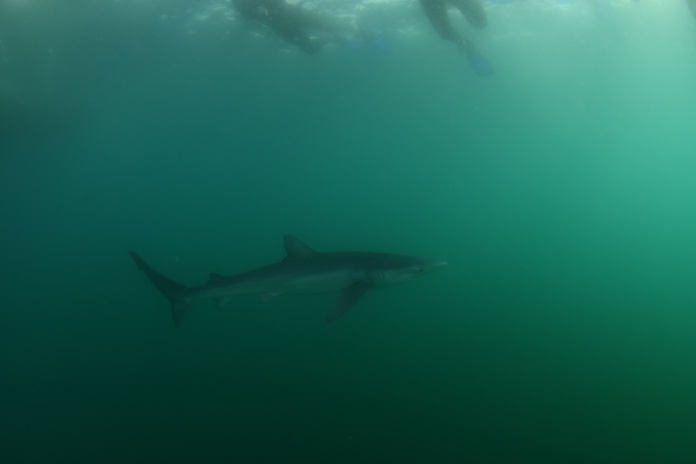Azul: (122, 223, 453, 334)
